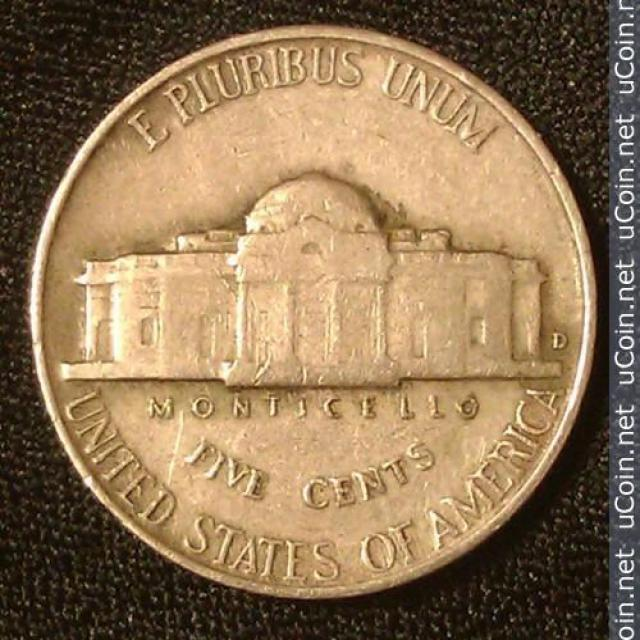Nickel: (27, 22, 604, 610)
